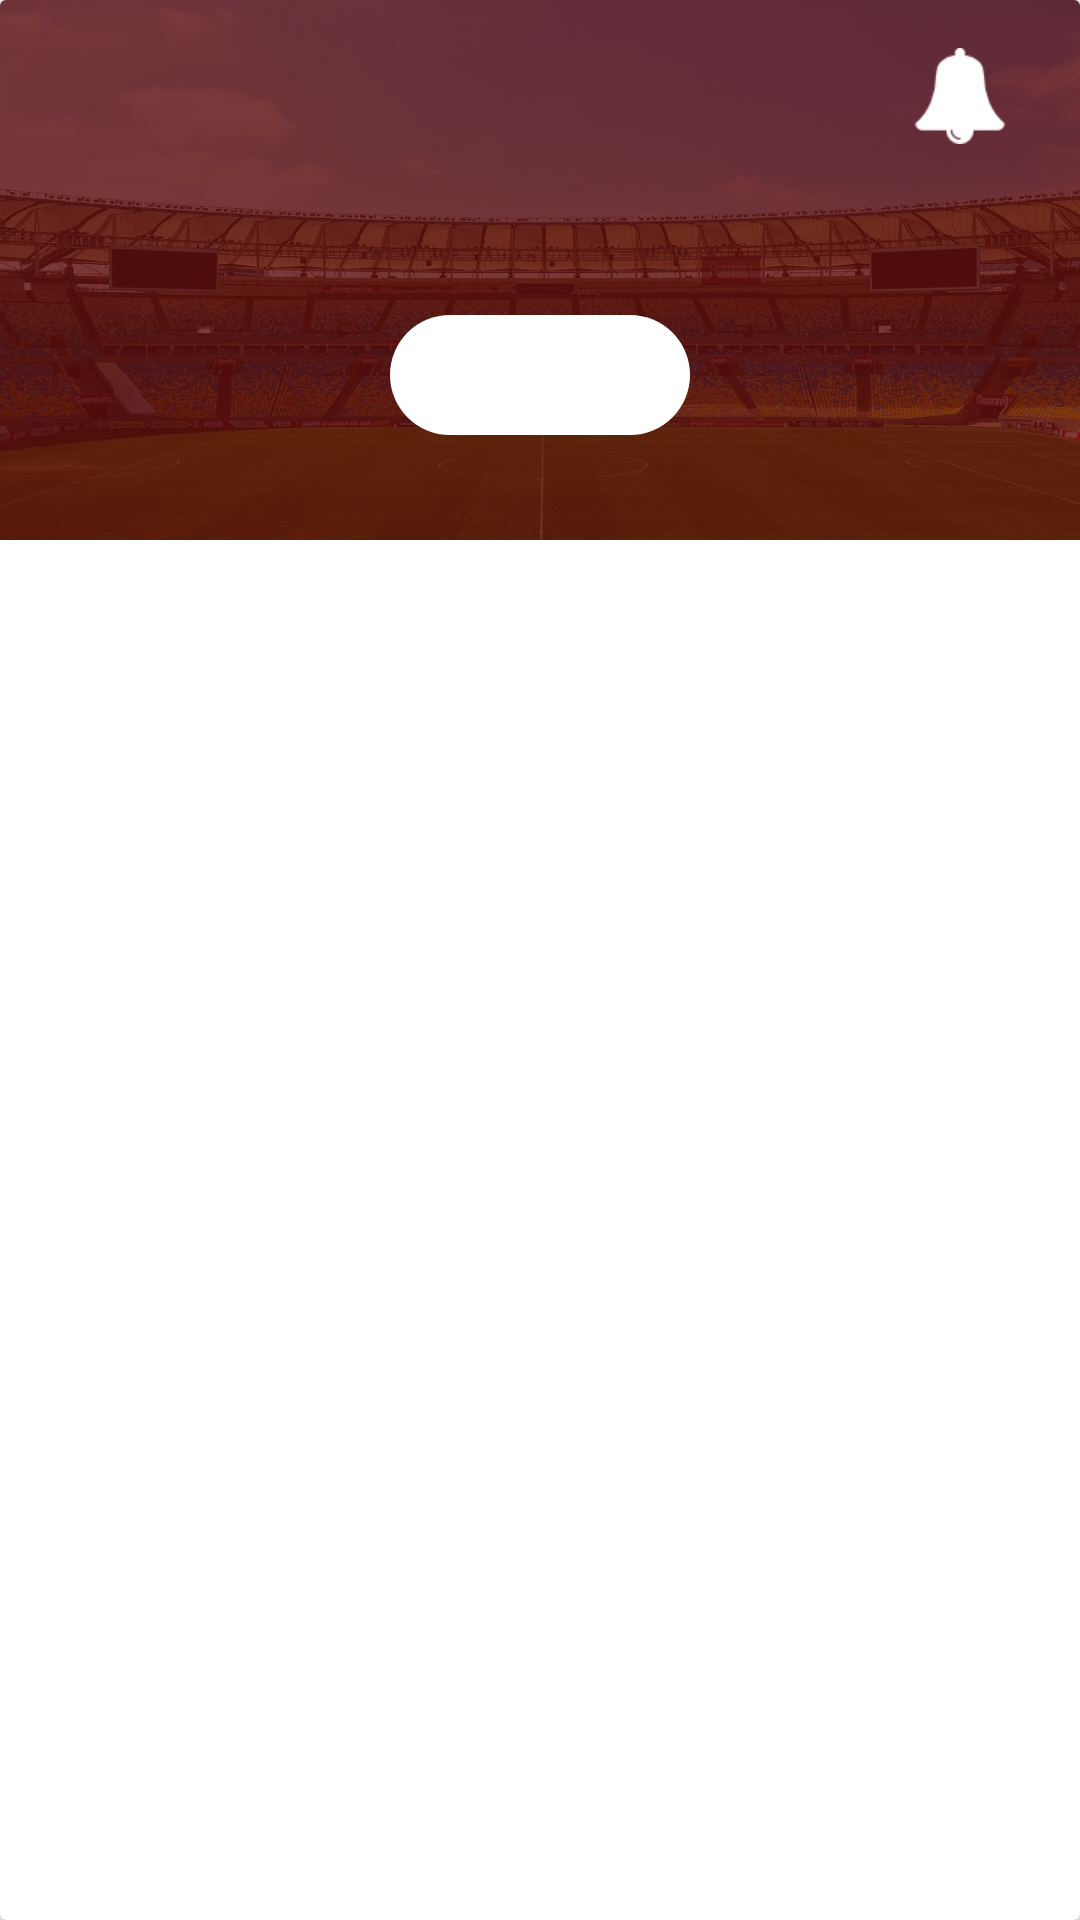

Icons on this 1080*1920 Android screen, each with the point to tap as [x,y]:
bell: [960,96]
